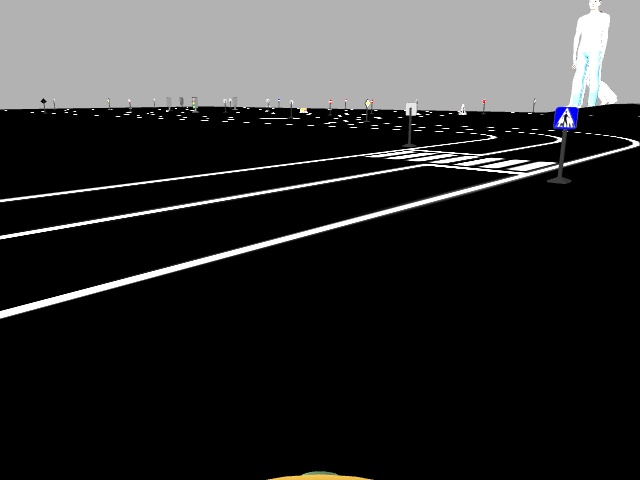Crosswalk: (554, 105, 577, 129)
